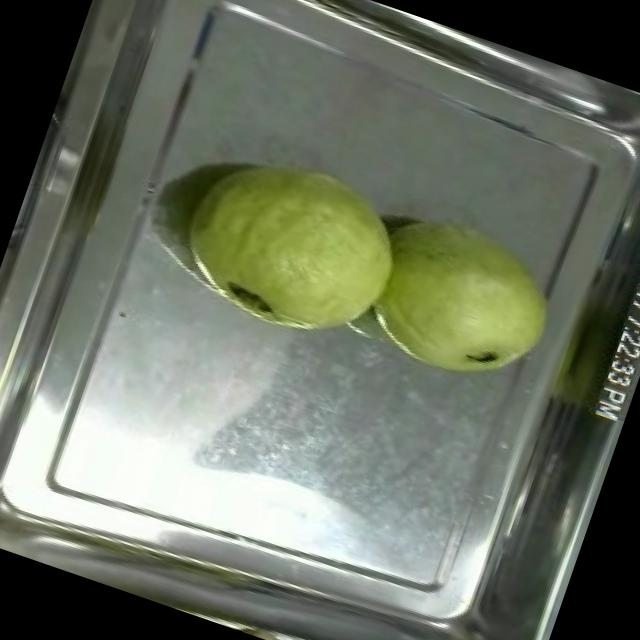Fruit: (160, 126, 426, 362), (346, 189, 580, 408)
